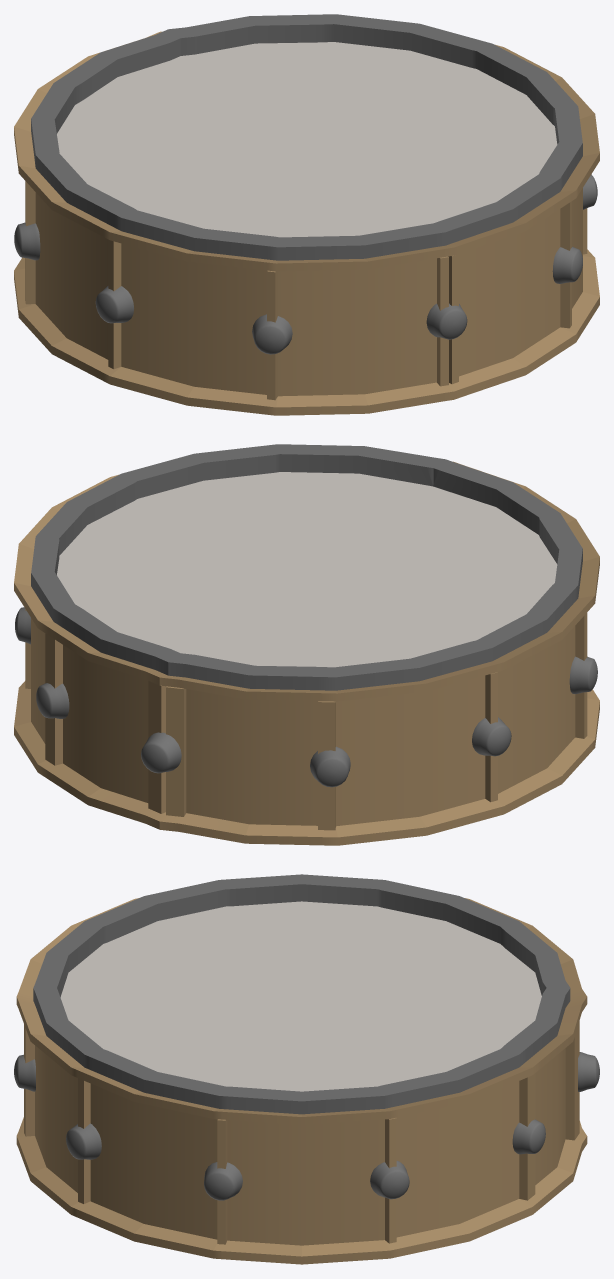
File: LV2_Drum2.fbx
3 views of the same model, one above another, from view 1: azimuth 30°, elevation 25°; view 2: azimuth 150°, elevation 25°; view 3: azimuth 270°, elevation 25° (orthographic). The views are drawn at different scales.
Parts seen in each view (by area): view 1: SidePiece6; view 2: SidePiece6; view 3: SidePiece6.
Part boxes in pixels (left/top/right/bottom): SidePiece6: left=14, top=14, right=599, bottom=415; SidePiece6: left=14, top=444, right=599, bottom=845; SidePiece6: left=14, top=874, right=599, bottom=1264.
Bounding box in the file's own units: 1.26 × 0.3894 × 1.3.
